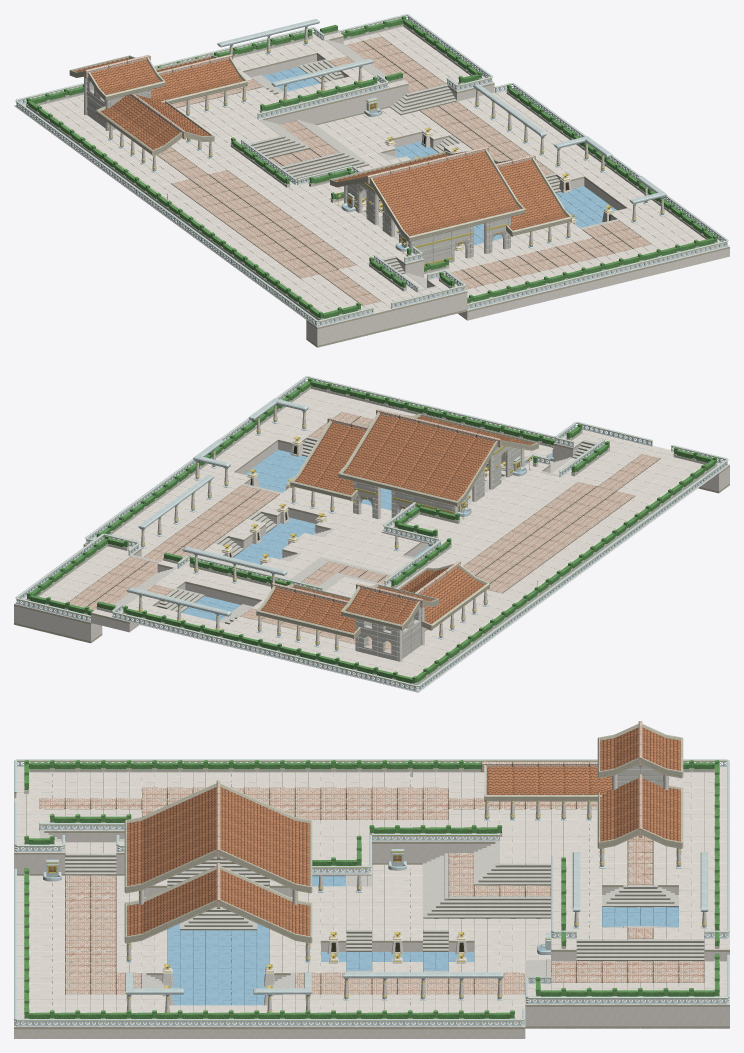
Rendered from Scene_Completed.fbx.
3 renders of one model, top to bottom at view 1: azimuth 30°, elevation 25°; view 2: azimuth 150°, elevation 25°; view 3: azimuth 270°, elevation 25°, orthographic. The views are drawn at different scales.
Visible parts, largest first — view 1: Scene; view 2: Scene; view 3: Scene.
Part boxes in pixels (box(x1,y1,x2,y2)): Scene: box(14, 14, 729, 347); Scene: box(14, 376, 729, 692); Scene: box(14, 721, 729, 1038).
Size of the model in its own units: 22 by 4.33 by 28.
